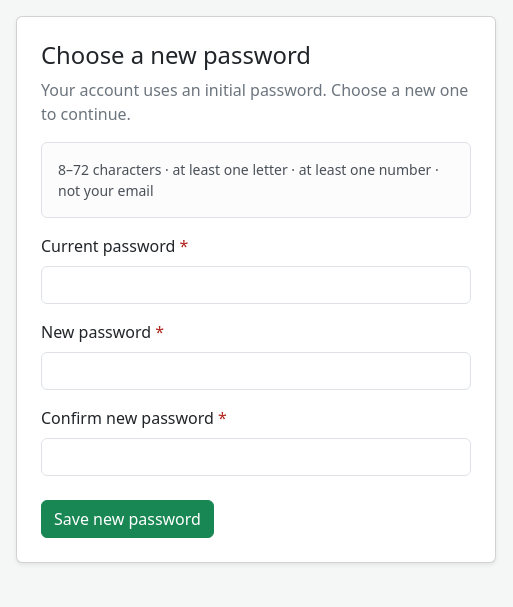
Test: UI-06 client-side policy check › rejects a password with no number
The width and height of the screenshot is (513, 607).
Step 1. Type "Welcome2026!" into the password field labelled "Current password *" → (256, 285), box [41,266,471,304]
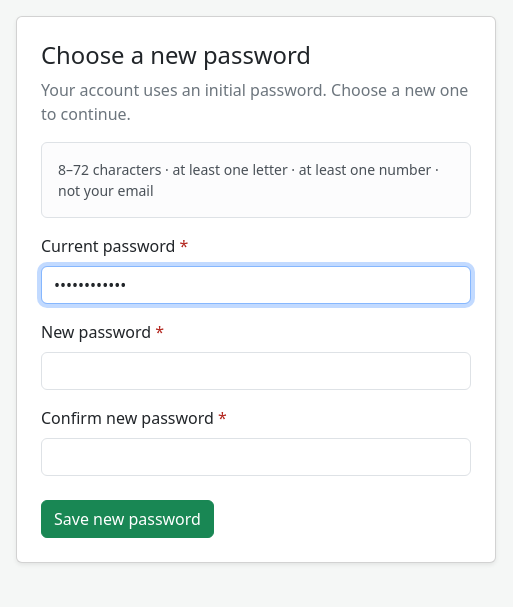
Step 2. Type "onlyletters" into the password field labelled "New password *" → (256, 371), box [41,352,471,390]
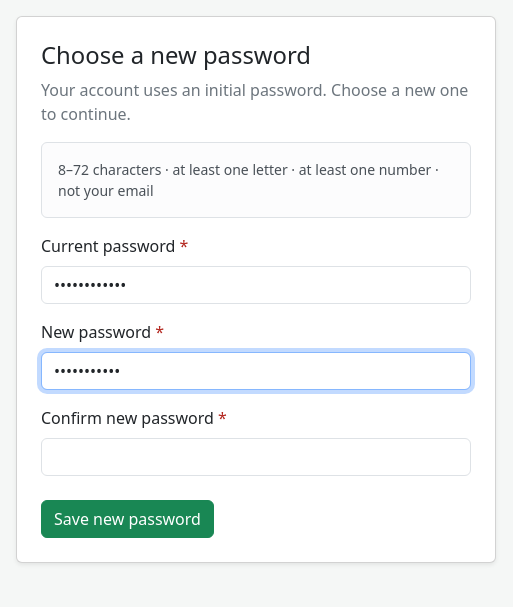
Step 3. Type "onlyletters" into the password field labelled "Confirm new password *" → (256, 457), box [41,438,471,476]
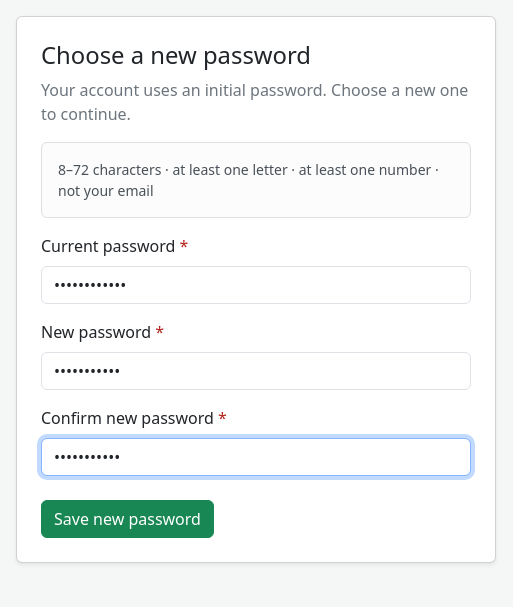
Step 4. Click the button "Save new password" → (127, 519), box [41,500,214,538]
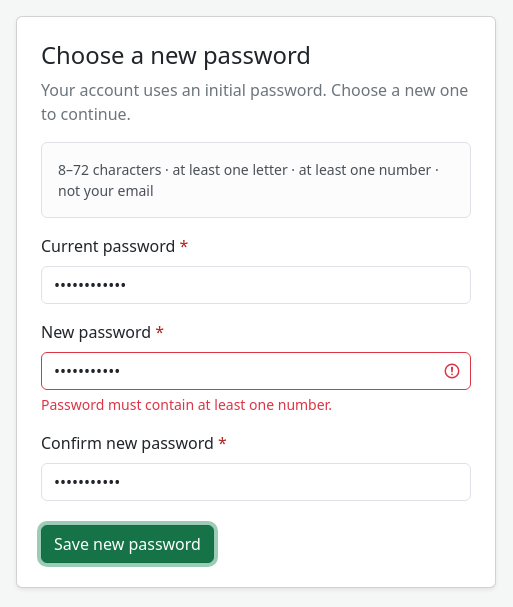
Expected: the text "Password must contain at least one number." is shown, [41,395,332,414]
